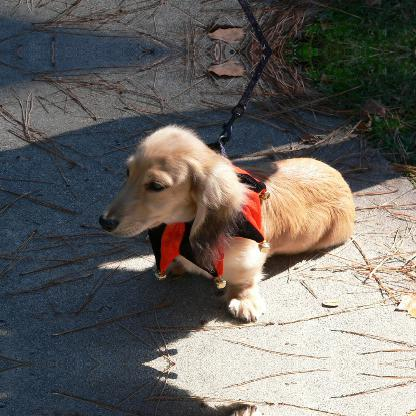Dog: (97, 122, 356, 324)
